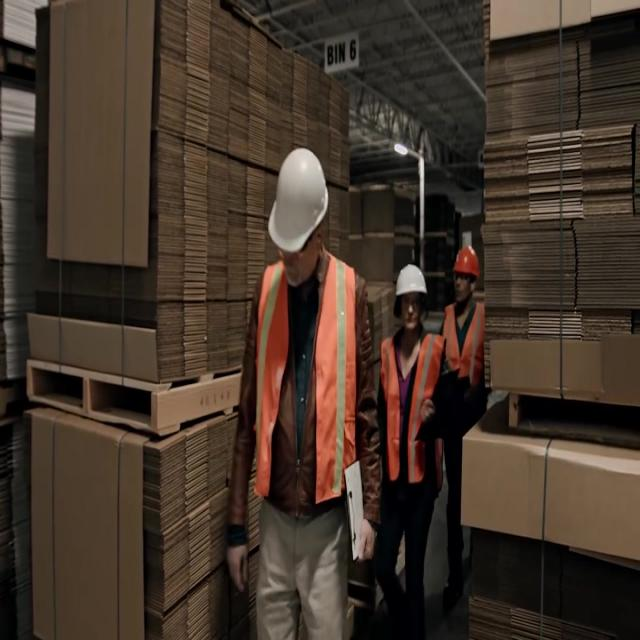Reflective-Jacket: (240, 252, 374, 528), (376, 329, 450, 508), (440, 297, 486, 395)
Safety-Helmet: (263, 133, 337, 264), (388, 254, 432, 315), (450, 240, 482, 282)
